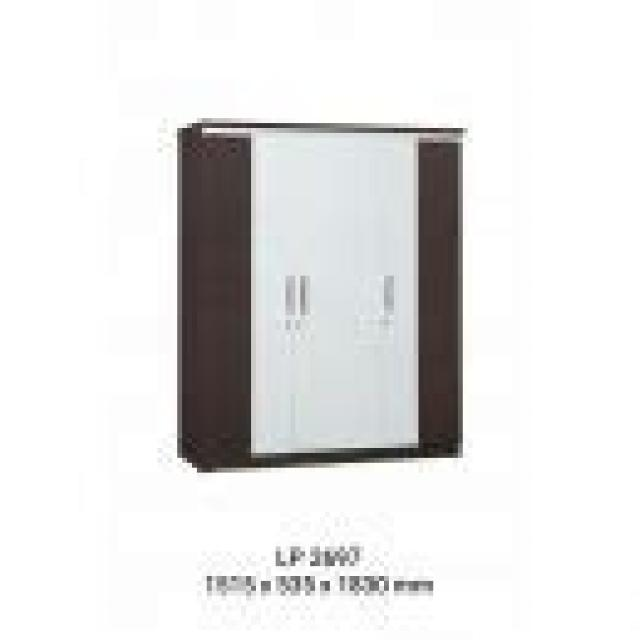Closet: (174, 117, 474, 470)
